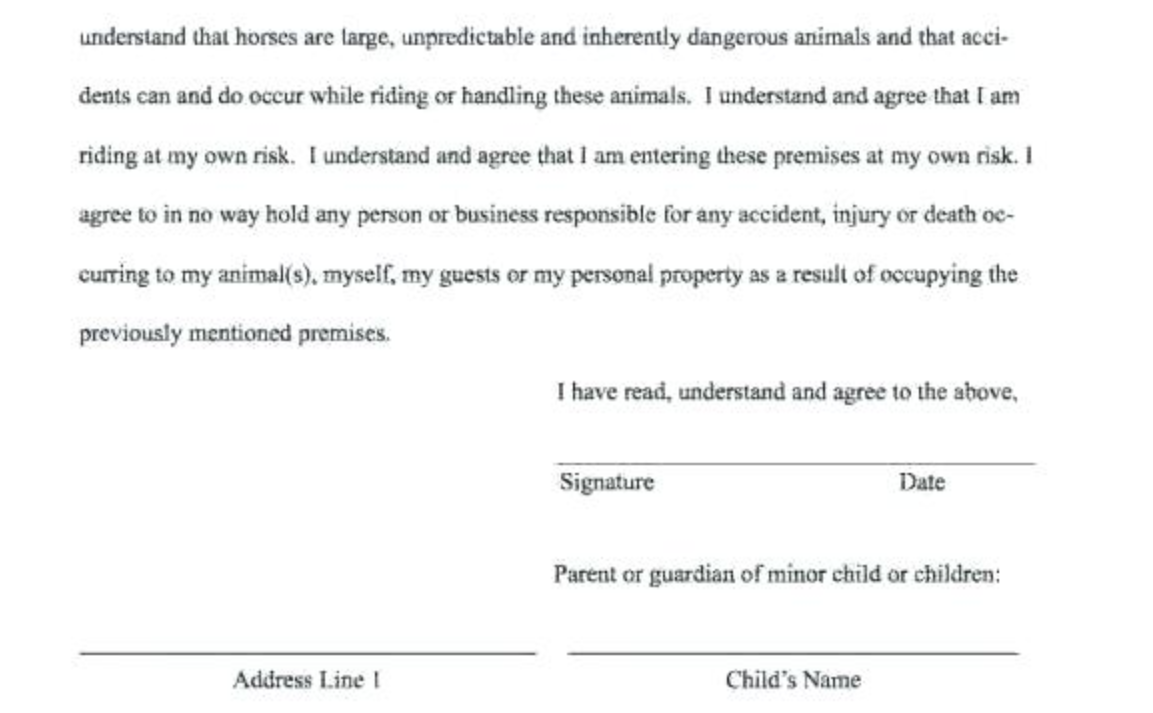textline: (545, 415, 1043, 471), (74, 604, 544, 662), (557, 604, 1030, 661)
